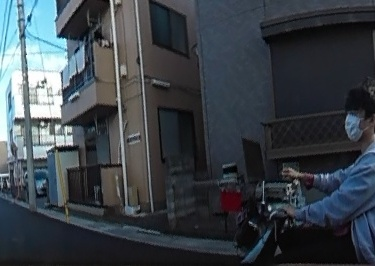person: (265, 77, 375, 266)
